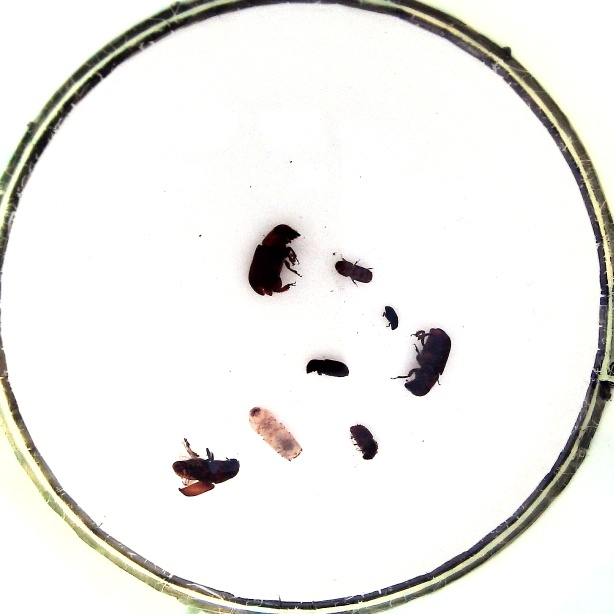acuminatus: (334, 257, 374, 287)
armandi: (302, 356, 351, 379)
boerner: (246, 405, 304, 461)
coleoptera: (380, 302, 402, 332)
leconte: (168, 440, 241, 497), (245, 223, 299, 297), (401, 325, 452, 397)
linnaeus: (347, 421, 380, 461)
